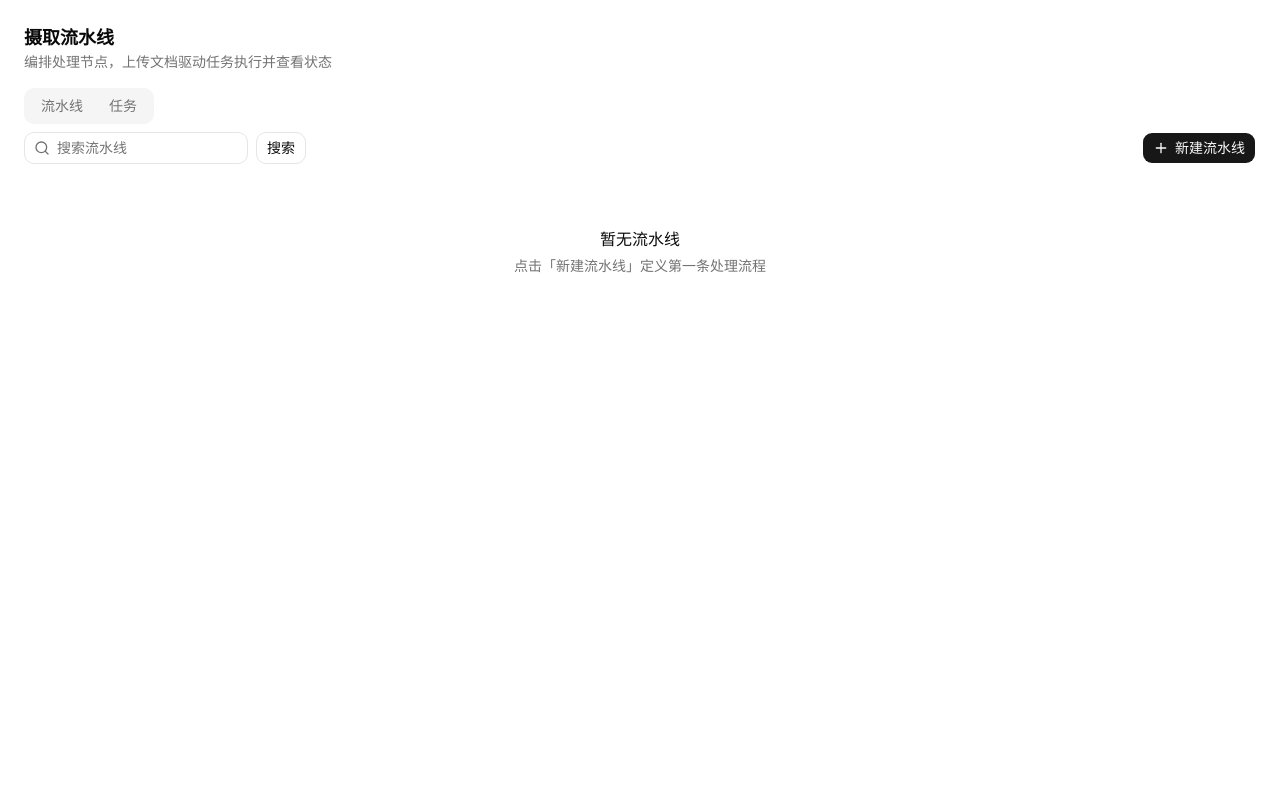
Test case: IngestionPage › 任务详情加载节点运行记录
The image size is (1280, 800).
Check: the text "暂无流水线" is shown, box [600,228,680,252]
Step 1. Click the tab "任务" → (123, 106), box [96,92,150,120]
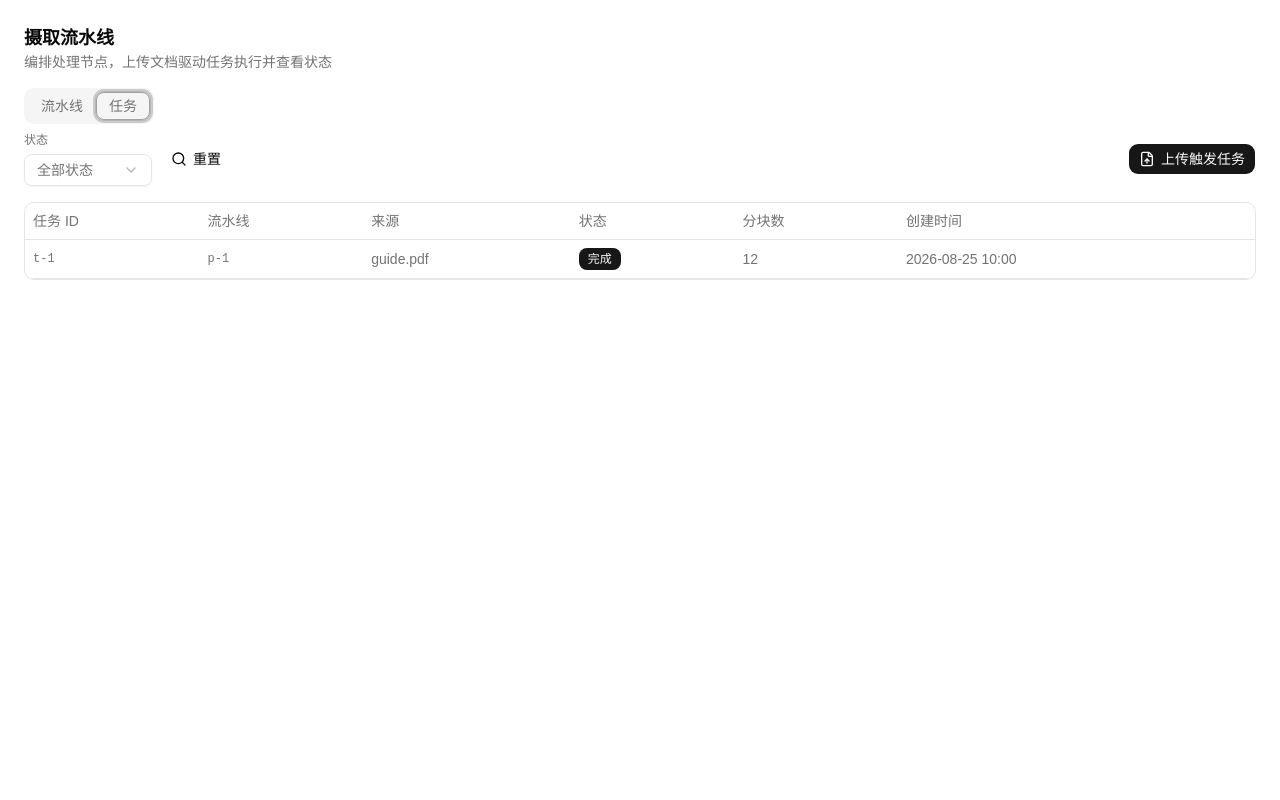
Check: the text "guide.pdf" is shown
Step 2. Click the text "guide.pdf" → (400, 258), box [371,250,429,266]
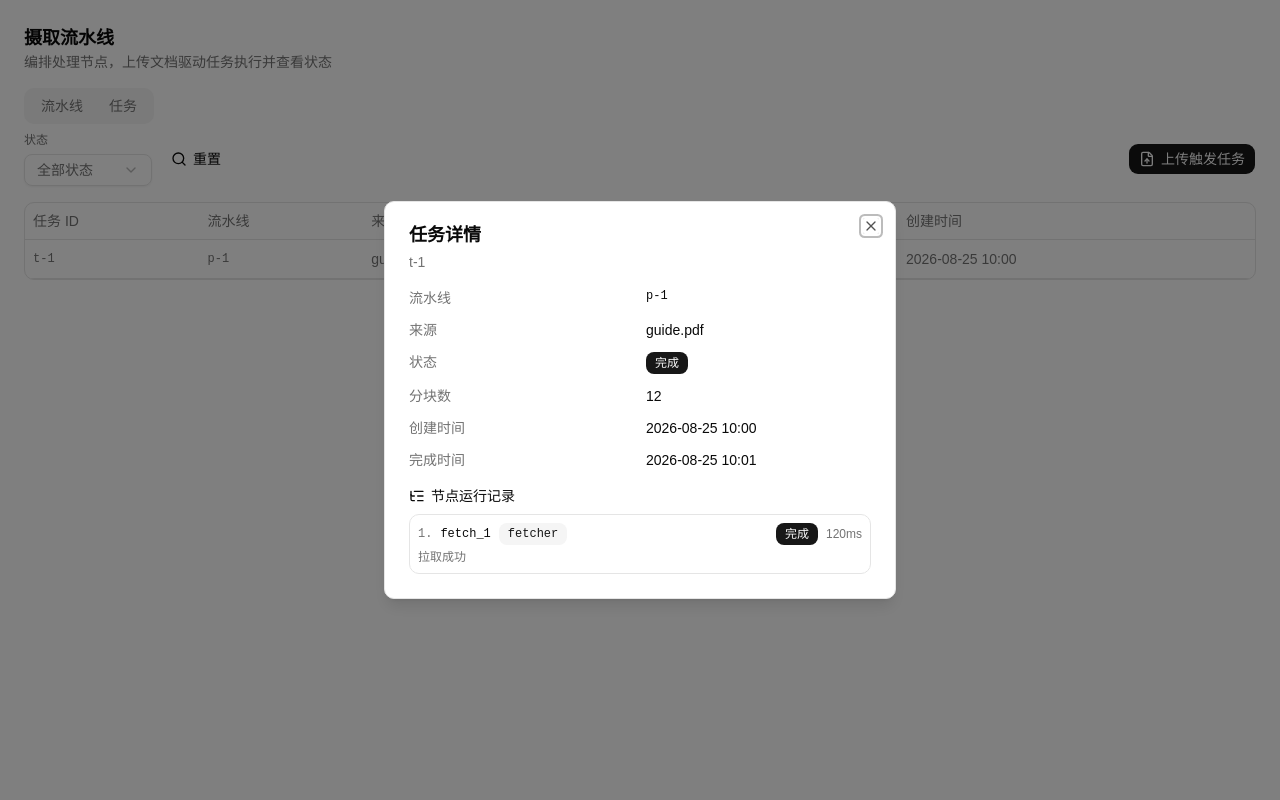
Check: the heading "任务详情" is shown, box [409,225,481,245]
Check: the text "fetch_1" is shown, box [440,527,491,541]
Check: the text "拉取成功" is shown, box [418,550,466,564]
